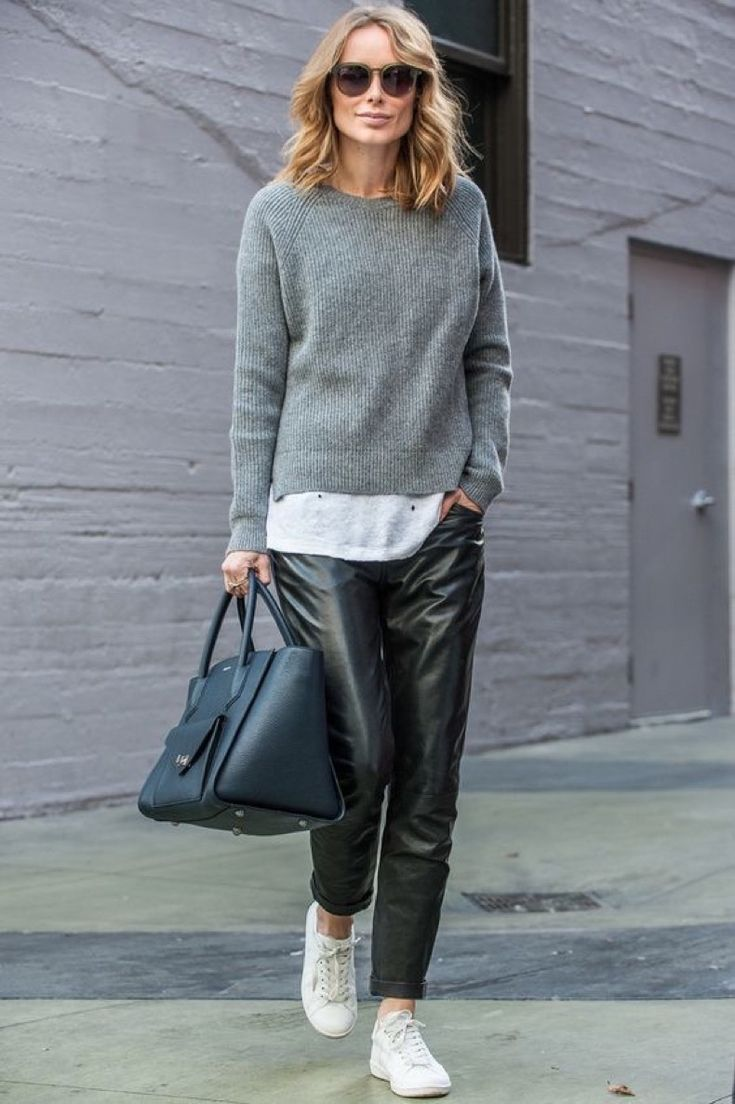cuero: (138, 499, 486, 1004)
